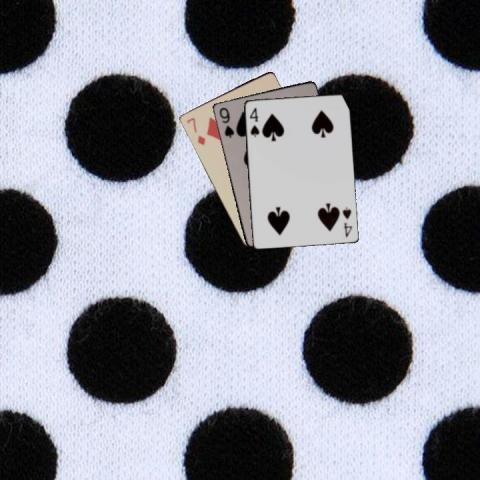4s: (340, 203, 354, 238), (246, 104, 260, 138)
7d: (183, 114, 207, 146)
9s: (216, 104, 235, 139)
